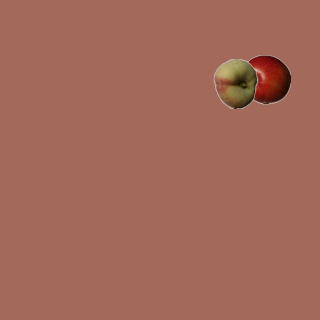Apple Braeburn: (240, 54, 290, 104)
Peach Flat: (210, 58, 260, 108)
